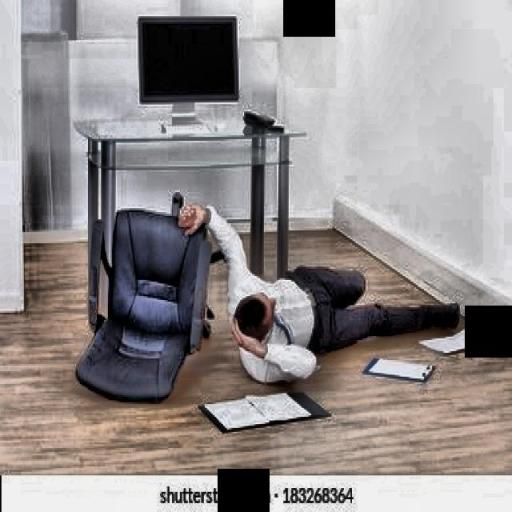Fall: (167, 193, 468, 392)
